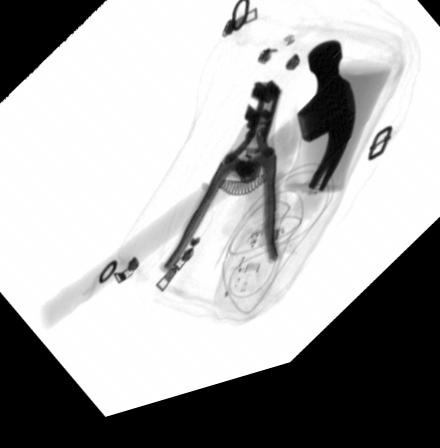Hammer: (39, 56, 356, 333)
Pliers: (159, 93, 286, 283)
